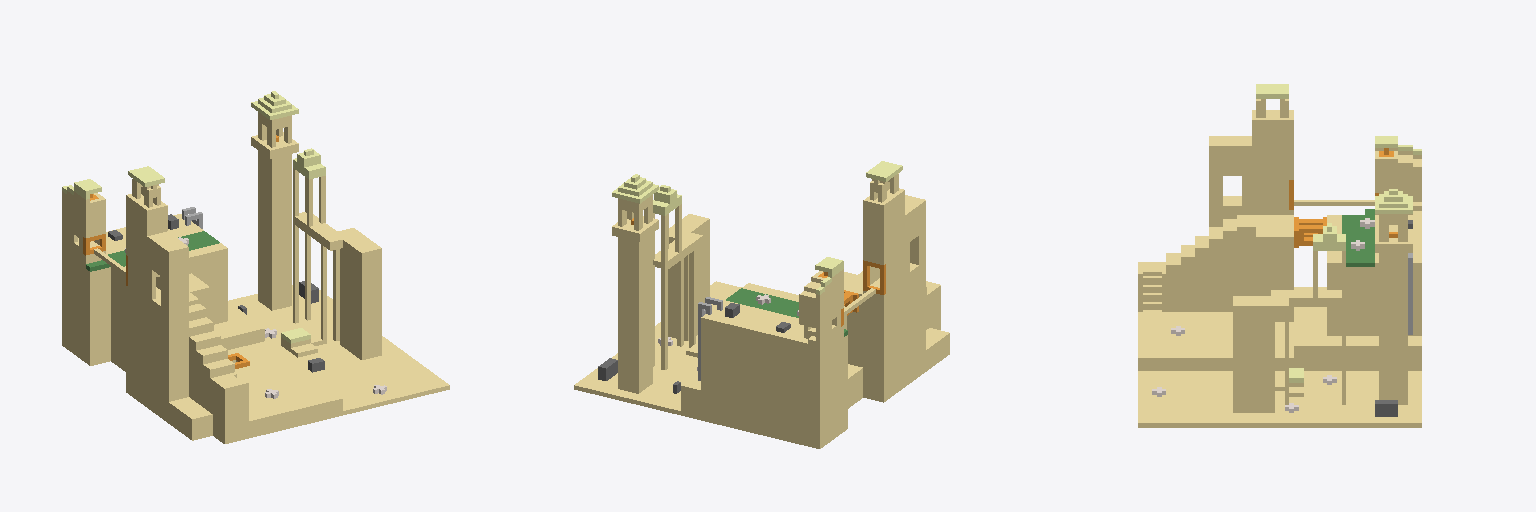
3 views of the same model, side by side, from view 1: azimuth 30°, elevation 25°; view 2: azimuth 150°, elevation 25°; view 3: azimuth 270°, elevation 25° (orthographic).
Visible parts, largest first — view 1: object 1; view 2: object 1; view 3: object 1.
Part boxes in pixels (x1,y1,x2,y2): object 1: (62, 91, 449, 443); object 1: (574, 161, 949, 448); object 1: (1138, 84, 1421, 427).
Size of the model in its own units: 6 by 5.2 by 6.
Materials: 1 (1 with a texture image).